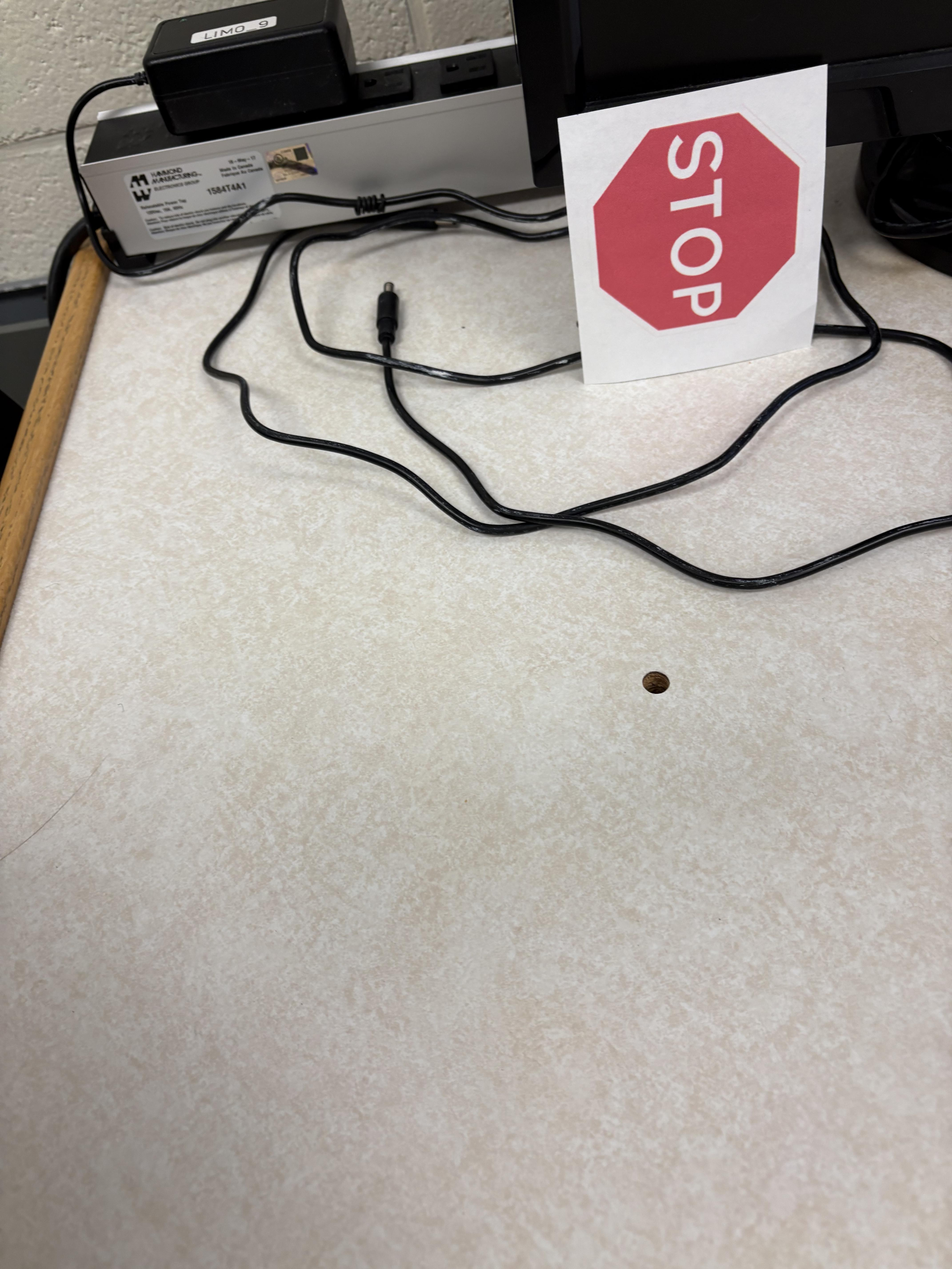Stop: (421, 84, 619, 526)
